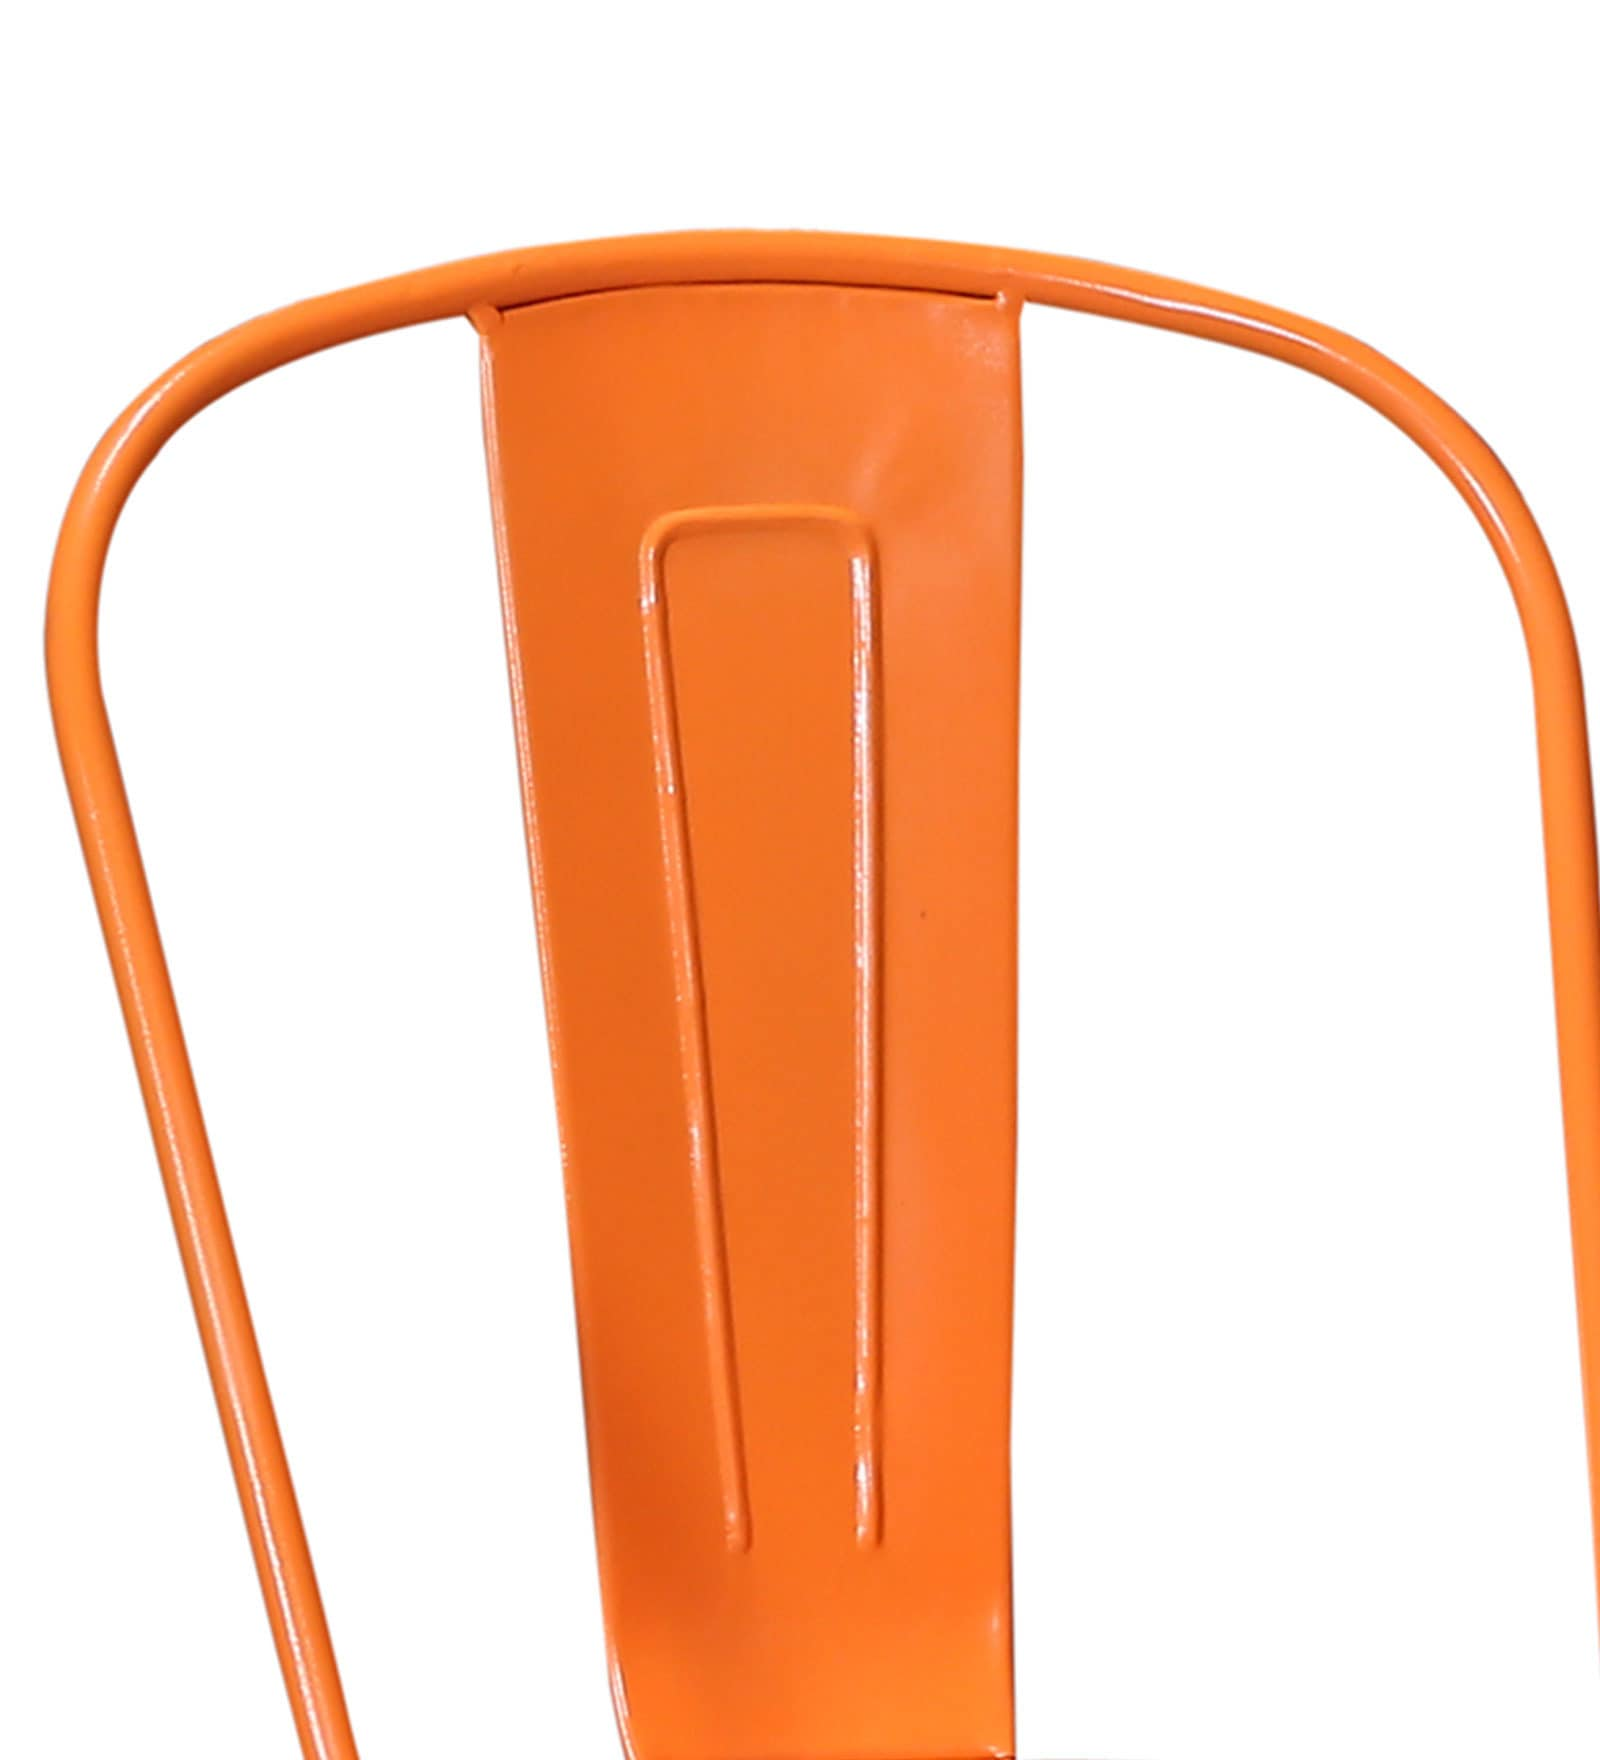Ekati Metal Chair in Orange Color with Eyelet by Bohemiana: (20, 209, 1600, 1731)
